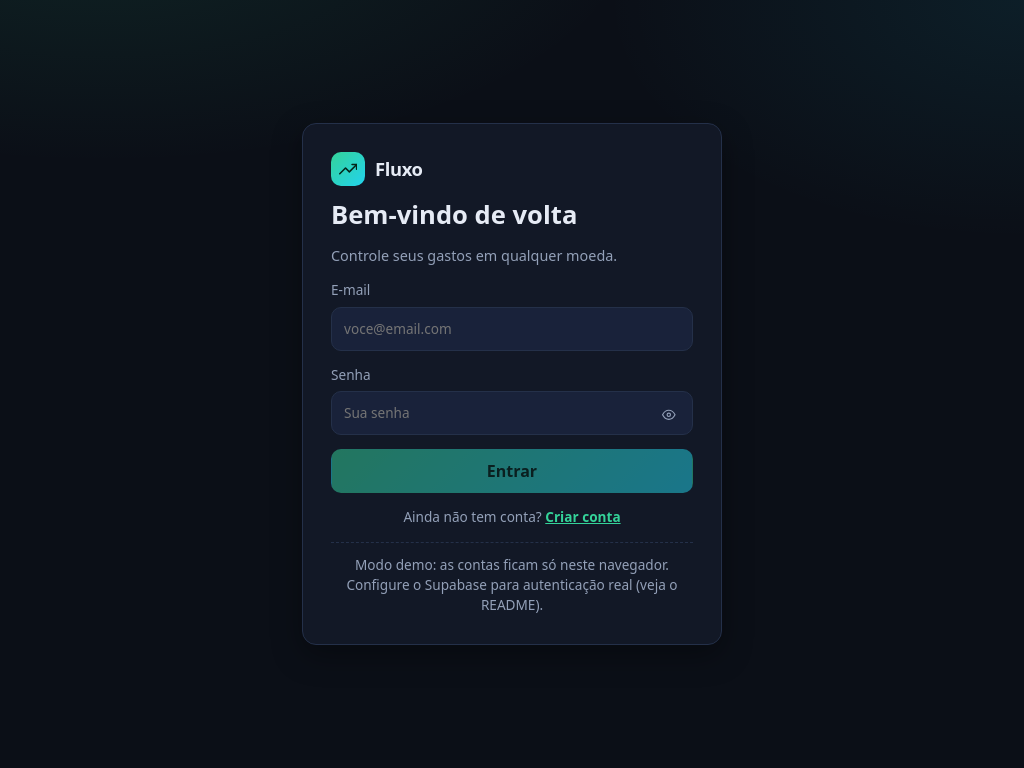
Scenario: Login › cria conta, entra na carteira e rejeita senha errada depois de sair
Expected: the heading "Bem-vindo de volta" is shown, [331,197,577,232]
Click the button "Criar conta" at coordinates (583, 518), box [545,507,621,528]
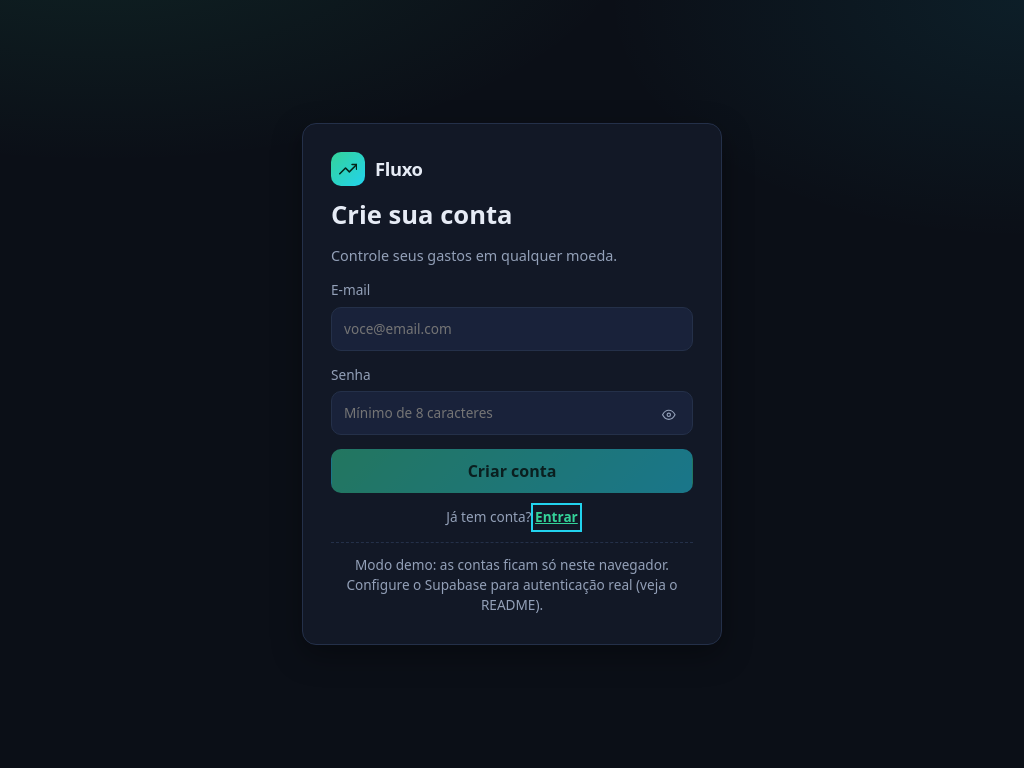
Type "teste@teste.com" into the field with placeholder "voce@email.com" at coordinates (512, 329), box [331,307,693,351]
Type "12345678" into the password field with test id "password-input" at coordinates (512, 413), box [331,391,693,435]
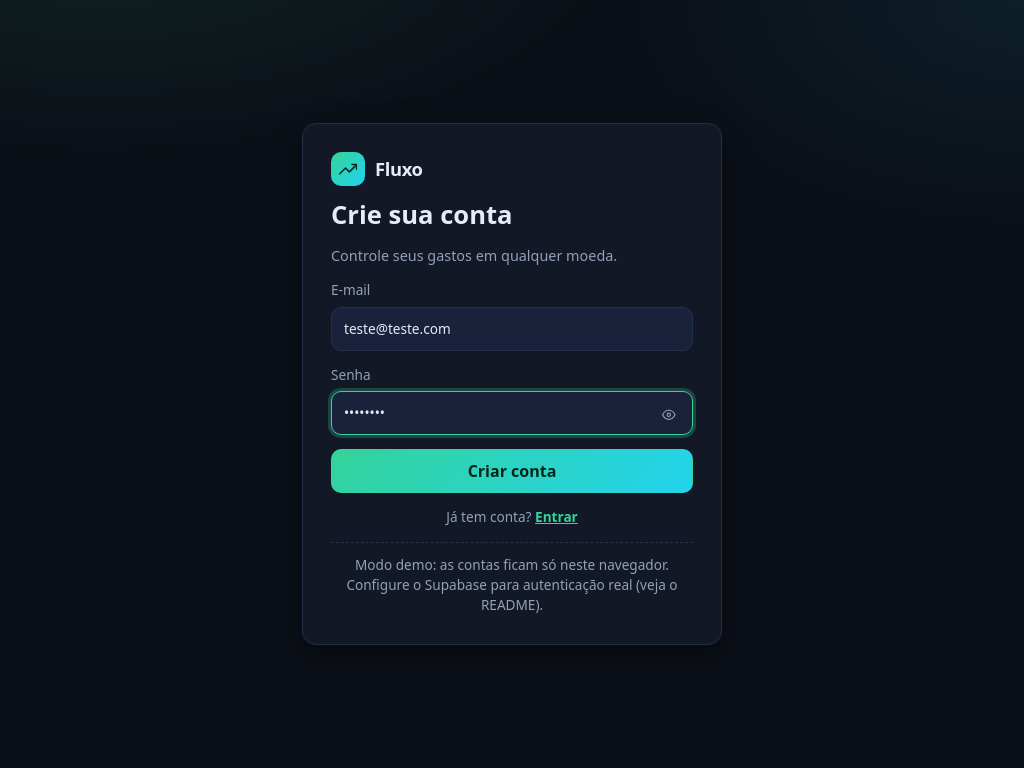
Click the button "Criar conta" at coordinates (512, 471), box [331,449,693,493]
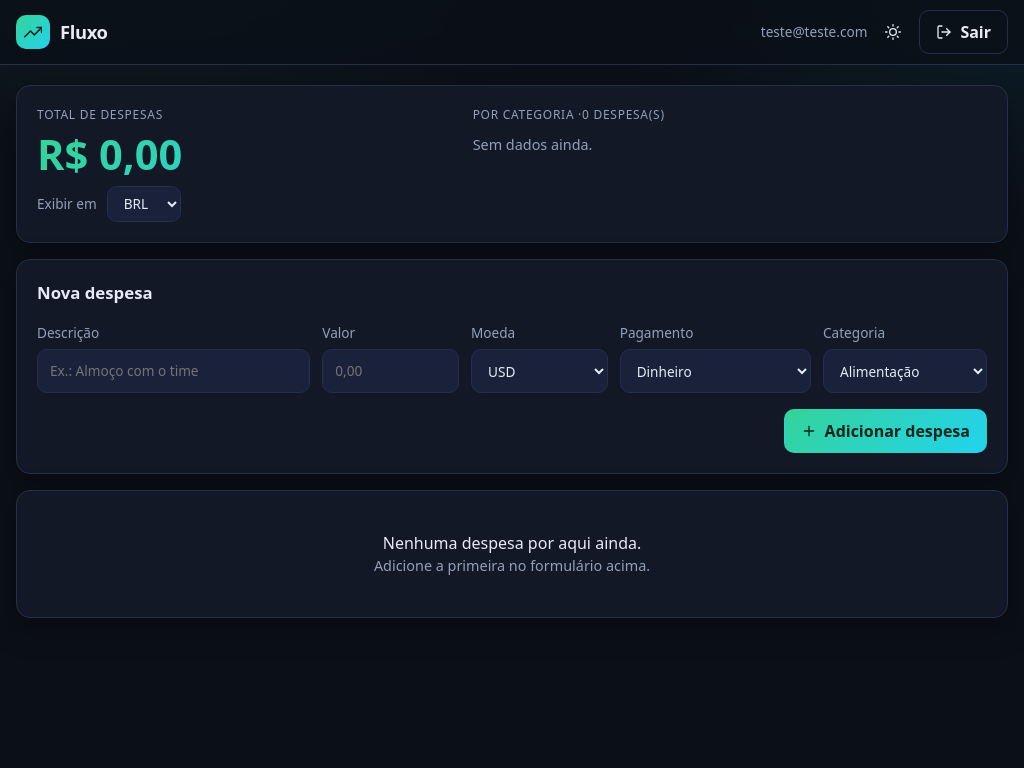
Result: the text with test id "email-field" reads "teste@teste.com" at [761,22,867,41]
Click the button "Sair" at coordinates (964, 32), box [919,10,1008,54]
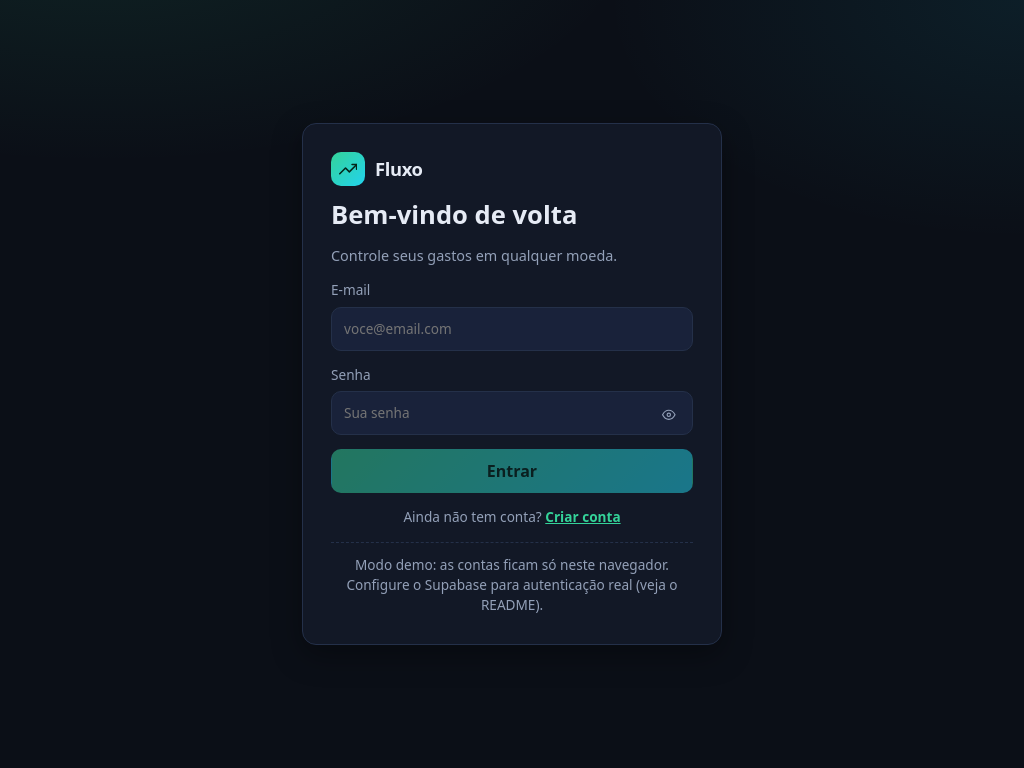
Type "teste@teste.com" into the field with test id "email-input" at coordinates (512, 329), box [331,307,693,351]
Type "senha-errada" into the password field with test id "password-input" at coordinates (512, 413), box [331,391,693,435]
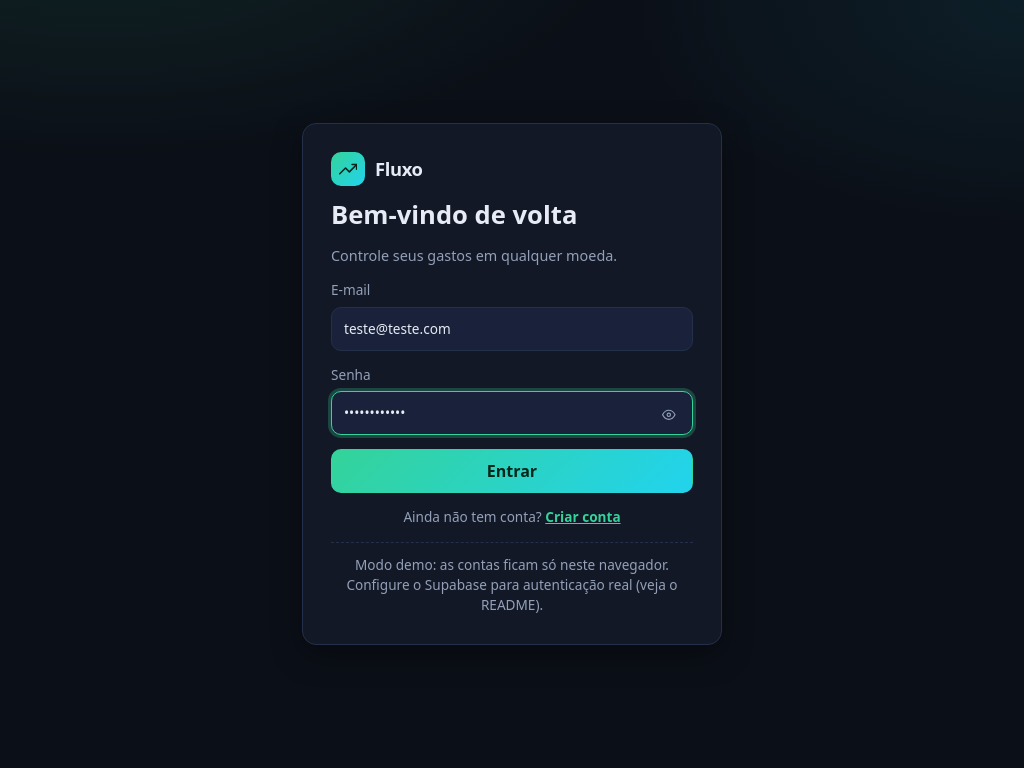
Click the button "Entrar" at coordinates (512, 471), box [331,449,693,493]
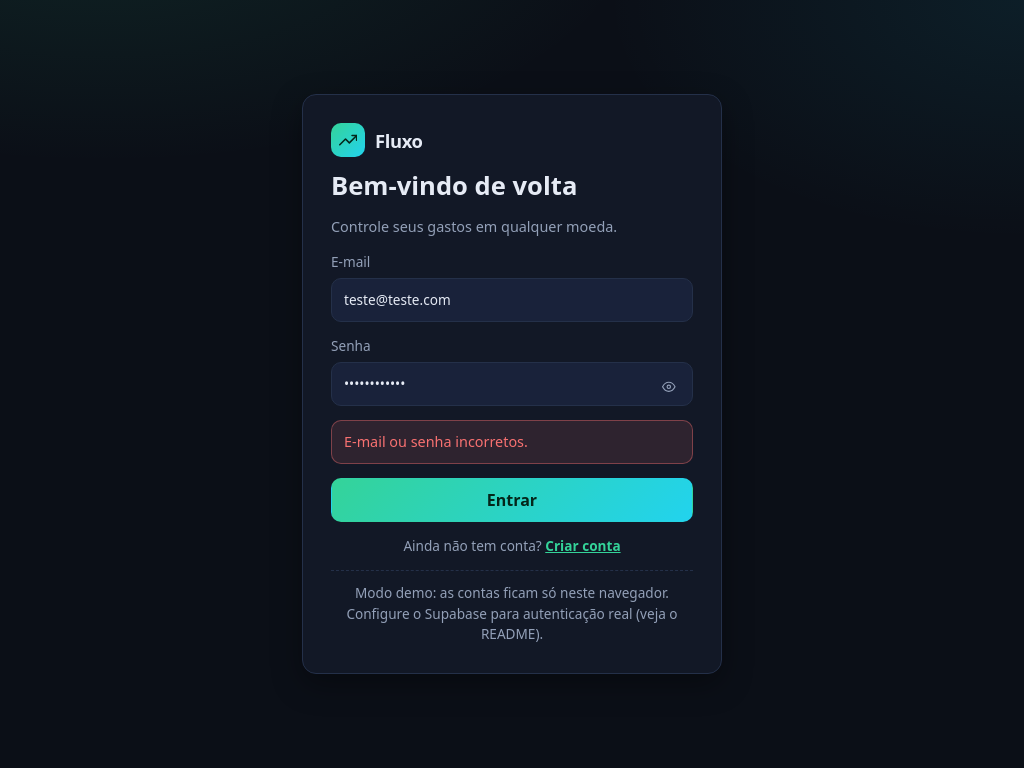
Result: the message reads "E-mail ou senha incorretos." at [344,432,528,452]
